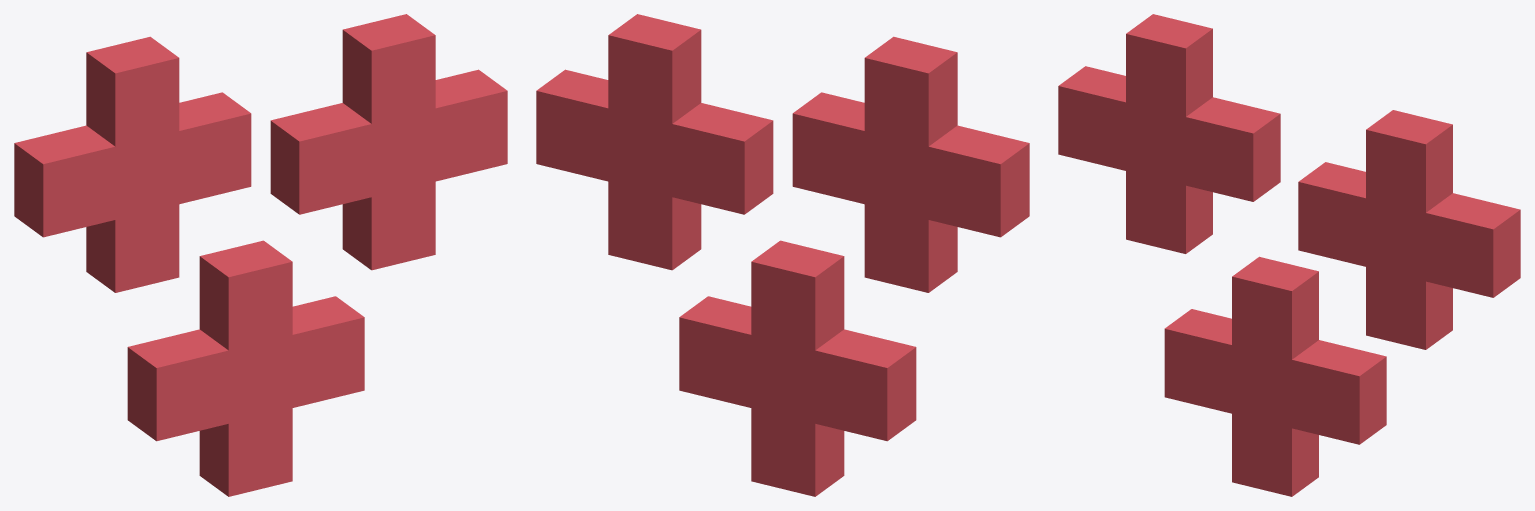
Rendered from HPPickup.fbx.
3 renders of one model, left to right at view 1: azimuth 30°, elevation 25°; view 2: azimuth 150°, elevation 25°; view 3: azimuth 330°, elevation 25°, orthographic. The views are drawn at different scales.
Visible parts, largest first — view 1: HPPickup; view 2: HPPickup; view 3: HPPickup.
Boxes of the visible parts, x1=… form: HPPickup: x1=14, y1=14, x2=507, y2=496; HPPickup: x1=536, y1=14, x2=1029, y2=496; HPPickup: x1=1058, y1=14, x2=1520, y2=496.
Bounding box in the file's own units: 4.42 × 4.11 × 0.4773.
